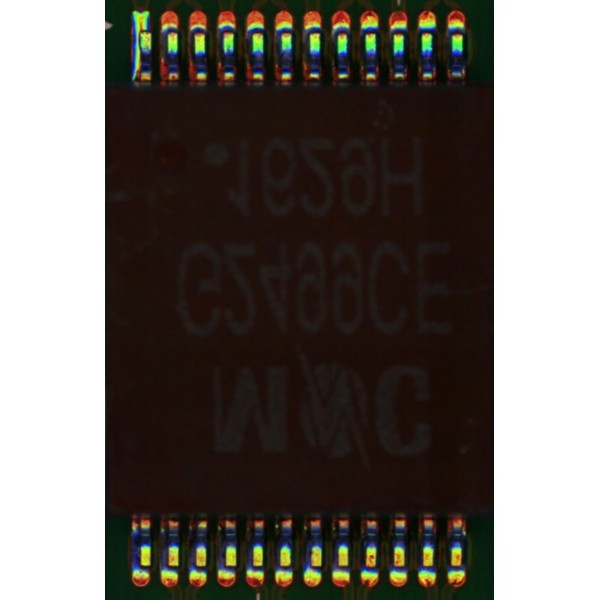Bad_podu: (138, 20, 146, 39)
Bad_qiaojiao: (132, 34, 140, 81)
